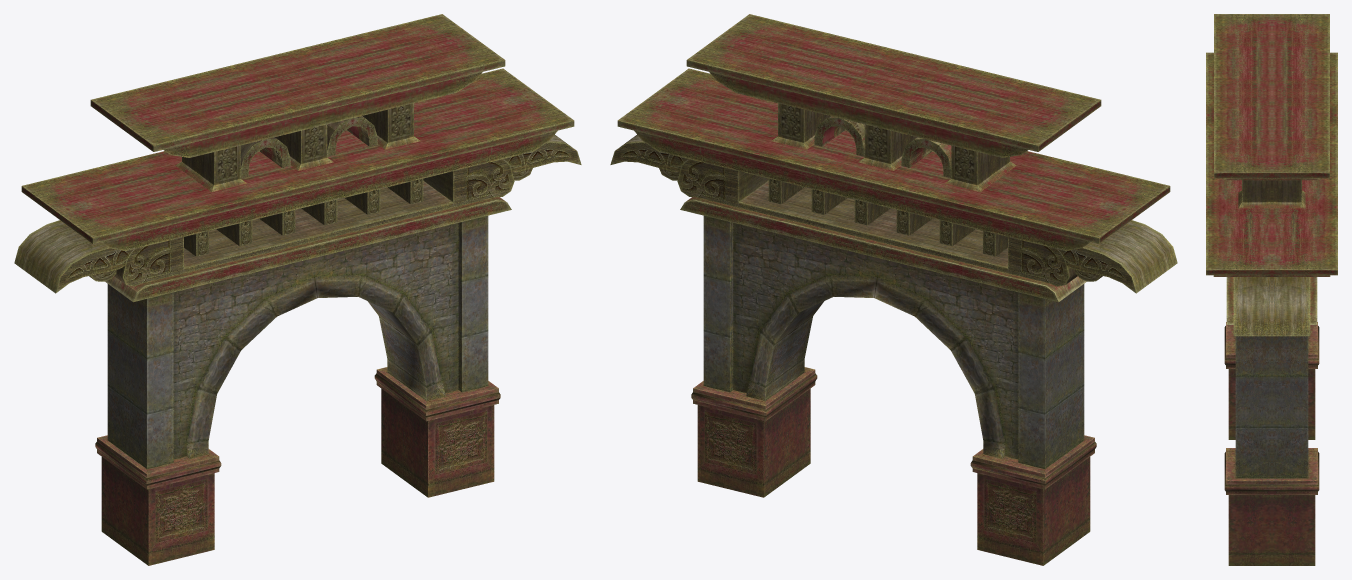
Rendered from fortressa_gate_00_lod_01.fbx.
3 renders of one model, left to right at view 1: azimuth 30°, elevation 25°; view 2: azimuth 150°, elevation 25°; view 3: azimuth 270°, elevation 25°, orthographic. The views are drawn at different scales.
Visible parts, largest first — view 1: fortressA_gate1_00_lod_01; view 2: fortressA_gate1_00_lod_01; view 3: fortressA_gate1_00_lod_01.
Boxes of the visible parts, x1,y1,x2,y2 form: fortressA_gate1_00_lod_01: (14, 14, 581, 565); fortressA_gate1_00_lod_01: (610, 14, 1177, 565); fortressA_gate1_00_lod_01: (1206, 14, 1337, 565).
Bounding box in the file's own units: 31.39 × 24.34 × 7.38.
